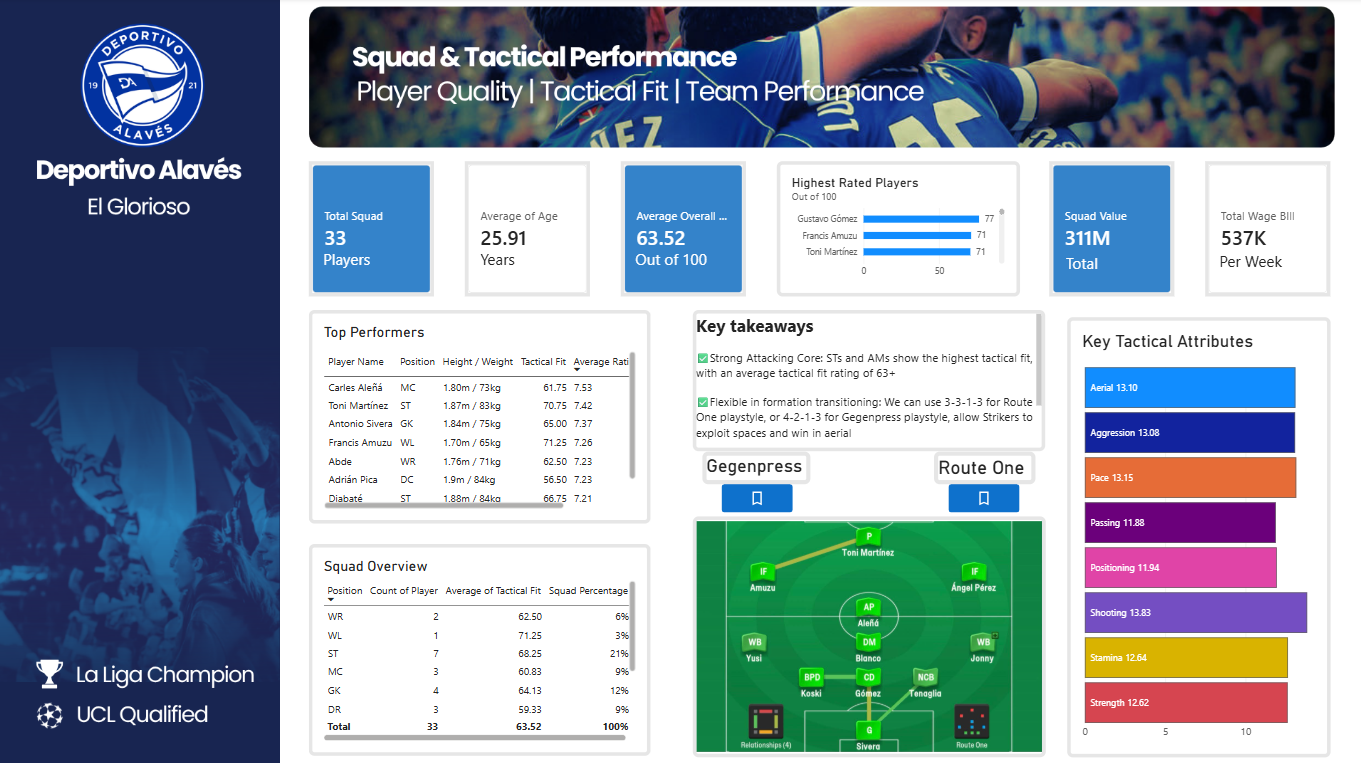

The page's visual inventory and layout, read from the dashboard file:
{"tool":"powerbi","page":{"name":"Squad & Tactical Performance","canvas":[1920,1080],"ordinal":1},"visuals":[{"type":"image","box":[0,0,1920,1080],"z":0},{"type":"cardVisual","fields":{"Data":["CountNonNull(PBI_Players.Player)"]},"box":[436,230,176.7,190],"z":0,"group":"g2"},{"type":"cardVisual","fields":{"Data":["Avg(PBI_Players.Age)"]},"box":[655.2,230,176.7,190],"z":0,"group":"g1"},{"type":"cardVisual","fields":{"Data":["Avg(Tactical Analysis.Tactical Fit)"]},"box":[874.4,230,176.7,190],"z":0,"group":"g3"},{"type":"cardVisual","fields":{"Data":["Sum(PBI_Players.Transfer_Value)"]},"box":[1477.5,230,176.7,190],"z":0,"group":"g4"},{"type":"cardVisual","fields":{"Data":["Sum(PBI_Players.Weekly_Wage)"]},"box":[1695,230,176.7,190],"z":0,"group":"g5"},{"type":"image","box":[976,728,496,338],"z":0,"group":"g6"},{"type":"group","id":"g1","title":"Group 1","box":[655.2,230,176.7,190],"z":1000},{"type":"textbox","box":[456.2,353.1,68.1,31.2],"z":1000,"group":"g2"},{"type":"textbox","box":[677.7,353.8,51.2,31.2],"z":1000,"group":"g1"},{"type":"textbox","box":[895,353.8,108.8,31.2],"z":1000,"group":"g3"},{"type":"textbox","box":[1715.9,355.3,96.7,30],"z":1000,"group":"g5"},{"type":"textbox","box":[1501.5,357.6,54.4,28.9],"z":1000,"group":"g4"},{"type":"clusteredBarChart","title":"Key Tactical Attributes","fields":{"Y":["Avg(PBI_Tactical_Analysis.Aerial)","Avg(PBI_Tactical_Analysis.Aggression)","Avg(PBI_Tactical_Analysis.Pace)","Avg(PBI_Tactical_Analysis.Passing)","Avg(PBI_Tactical_Analysis.Positioning)","Avg(PBI_Tactical_Analysis.Shooting)","Avg(PBI_Tactical_Analysis.Stamina)","Avg(PBI_Tactical_Analysis.Strength)"]},"box":[1502,448,370,618],"z":1000,"group":"g6"},{"type":"group","id":"g2","title":"Group 2","box":[436,230,176.7,190],"z":2000},{"type":"group","id":"g3","title":"Group 3","box":[874.4,230,176.7,190],"z":3000},{"type":"barChart","title":"Highest Rated Players","fields":{"Category":["Tactical Analysis.Player Name"],"Y":["Max(Tactical Analysis.Tactical Fit)"]},"box":[1093.7,230,341.2,190],"z":4000},{"type":"group","id":"g4","title":"Group 4","box":[1477.5,230,176.7,190],"z":5000},{"type":"group","id":"g5","title":"Group 5","box":[1695,230,177.5,190],"z":6000},{"type":"pivotTable","title":"Squad Overview","fields":{"Rows":["PBI_Players.Position"],"Values":["CountNonNull(PBI_Players.Player)","Avg(Tactical Analysis.Tactical Fit)","PBI_Financials.Squad Percentage"]},"box":[436.2,767.5,480,297.5],"z":7000},{"type":"tableEx","title":"Top Performers","fields":{"Values":["PBI_Tactical_Analysis.Player Name","Min(PBI_Tactical_Analysis.Position)","PBI_Players.Height_Weight","Sum(PBI_Tactical_Analysis.Tactical Fit)","PBI_Players.Average Rating","PBI_Players.Match Played"]},"box":[436.7,438.3,480,300],"z":8000},{"type":"group","id":"g6","title":"Group 6","box":[976,448,896,618],"z":9000},{"type":"textbox","box":[976.7,438.3,495,198.3],"z":9001},{"type":"actionButton","box":[1015.7,682.9,100,40],"z":9005},{"type":"actionButton","title":"Gegenpress","box":[990,637.1,151.4,45.7],"z":9006},{"type":"actionButton","box":[1335.7,682.9,100,40],"z":9007},{"type":"actionButton","title":"Route One","box":[1314.3,637.1,142.9,45.7],"z":9008}]}

Visuals, with their boxes in screenshot pixels (x1, y1, x2, y2), scaled from the page's 1920x1080 canvas onto the 1361x763 screenshot:
image: 0:0:1360:762
cardVisual - CountNonNull(PBI_Players.Player): 309:162:434:297
cardVisual - Avg(PBI_Players.Age): 464:162:590:297
cardVisual - Avg(Tactical Analysis.Tactical Fit): 620:162:745:297
cardVisual - Sum(PBI_Players.Transfer_Value): 1047:162:1173:297
cardVisual - Sum(PBI_Players.Weekly_Wage): 1202:162:1327:297
image: 692:514:1043:753
"Group 1" group: 464:162:590:297
textbox: 323:249:372:272
textbox: 480:250:517:272
textbox: 634:250:712:272
textbox: 1216:251:1285:272
textbox: 1064:253:1103:273
"Key Tactical Attributes" clusteredBarChart: 1065:317:1327:753
"Group 2" group: 309:162:434:297
"Group 3" group: 620:162:745:297
"Highest Rated Players" barChart: 775:162:1017:297
"Group 4" group: 1047:162:1173:297
"Group 5" group: 1202:162:1327:297
"Squad Overview" pivotTable: 309:542:649:752
"Top Performers" tableEx: 310:310:650:522
"Group 6" group: 692:317:1327:753
textbox: 692:310:1043:450
actionButton: 720:482:791:511
"Gegenpress" actionButton: 702:450:809:482
actionButton: 947:482:1018:511
"Route One" actionButton: 932:450:1033:482
